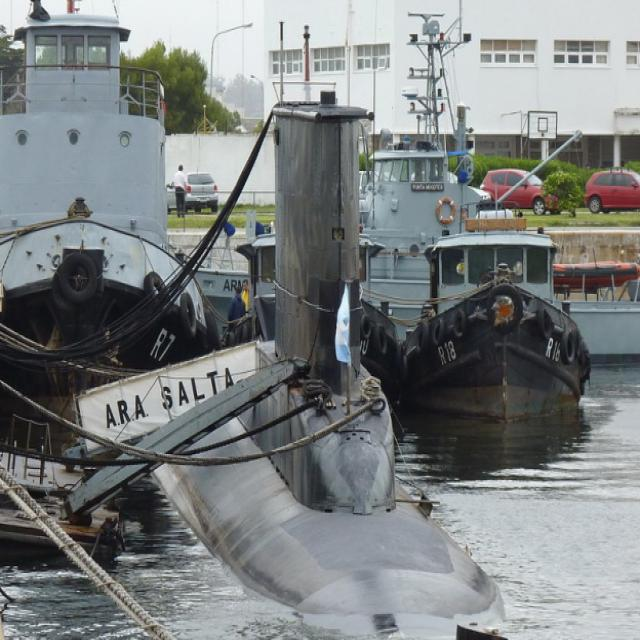submarine: (149, 53, 514, 640)
